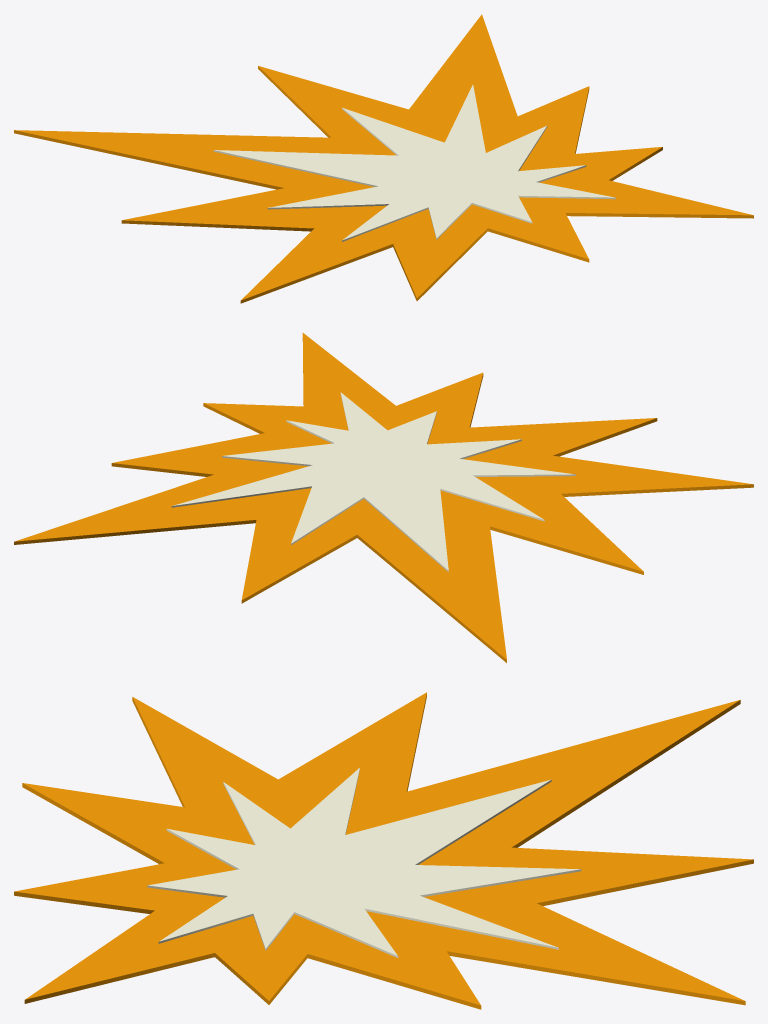
File: emoji_u1f4a5.glb
3 views of the same model, one above another, from view 1: azimuth 30°, elevation 25°; view 2: azimuth 150°, elevation 25°; view 3: azimuth 270°, elevation 25° (orthographic). The views are drawn at different scales.
Parts seen in each view (by area): view 1: emoji_u1f4a5; view 2: emoji_u1f4a5; view 3: emoji_u1f4a5.
Part boxes in pixels (box(x1,y1,x2,y2)): emoji_u1f4a5: box(14, 14, 753, 303); emoji_u1f4a5: box(14, 333, 753, 662); emoji_u1f4a5: box(14, 692, 753, 1009).
Size of the model in its own units: 0.0319 by 0.0004 by 0.0319.
